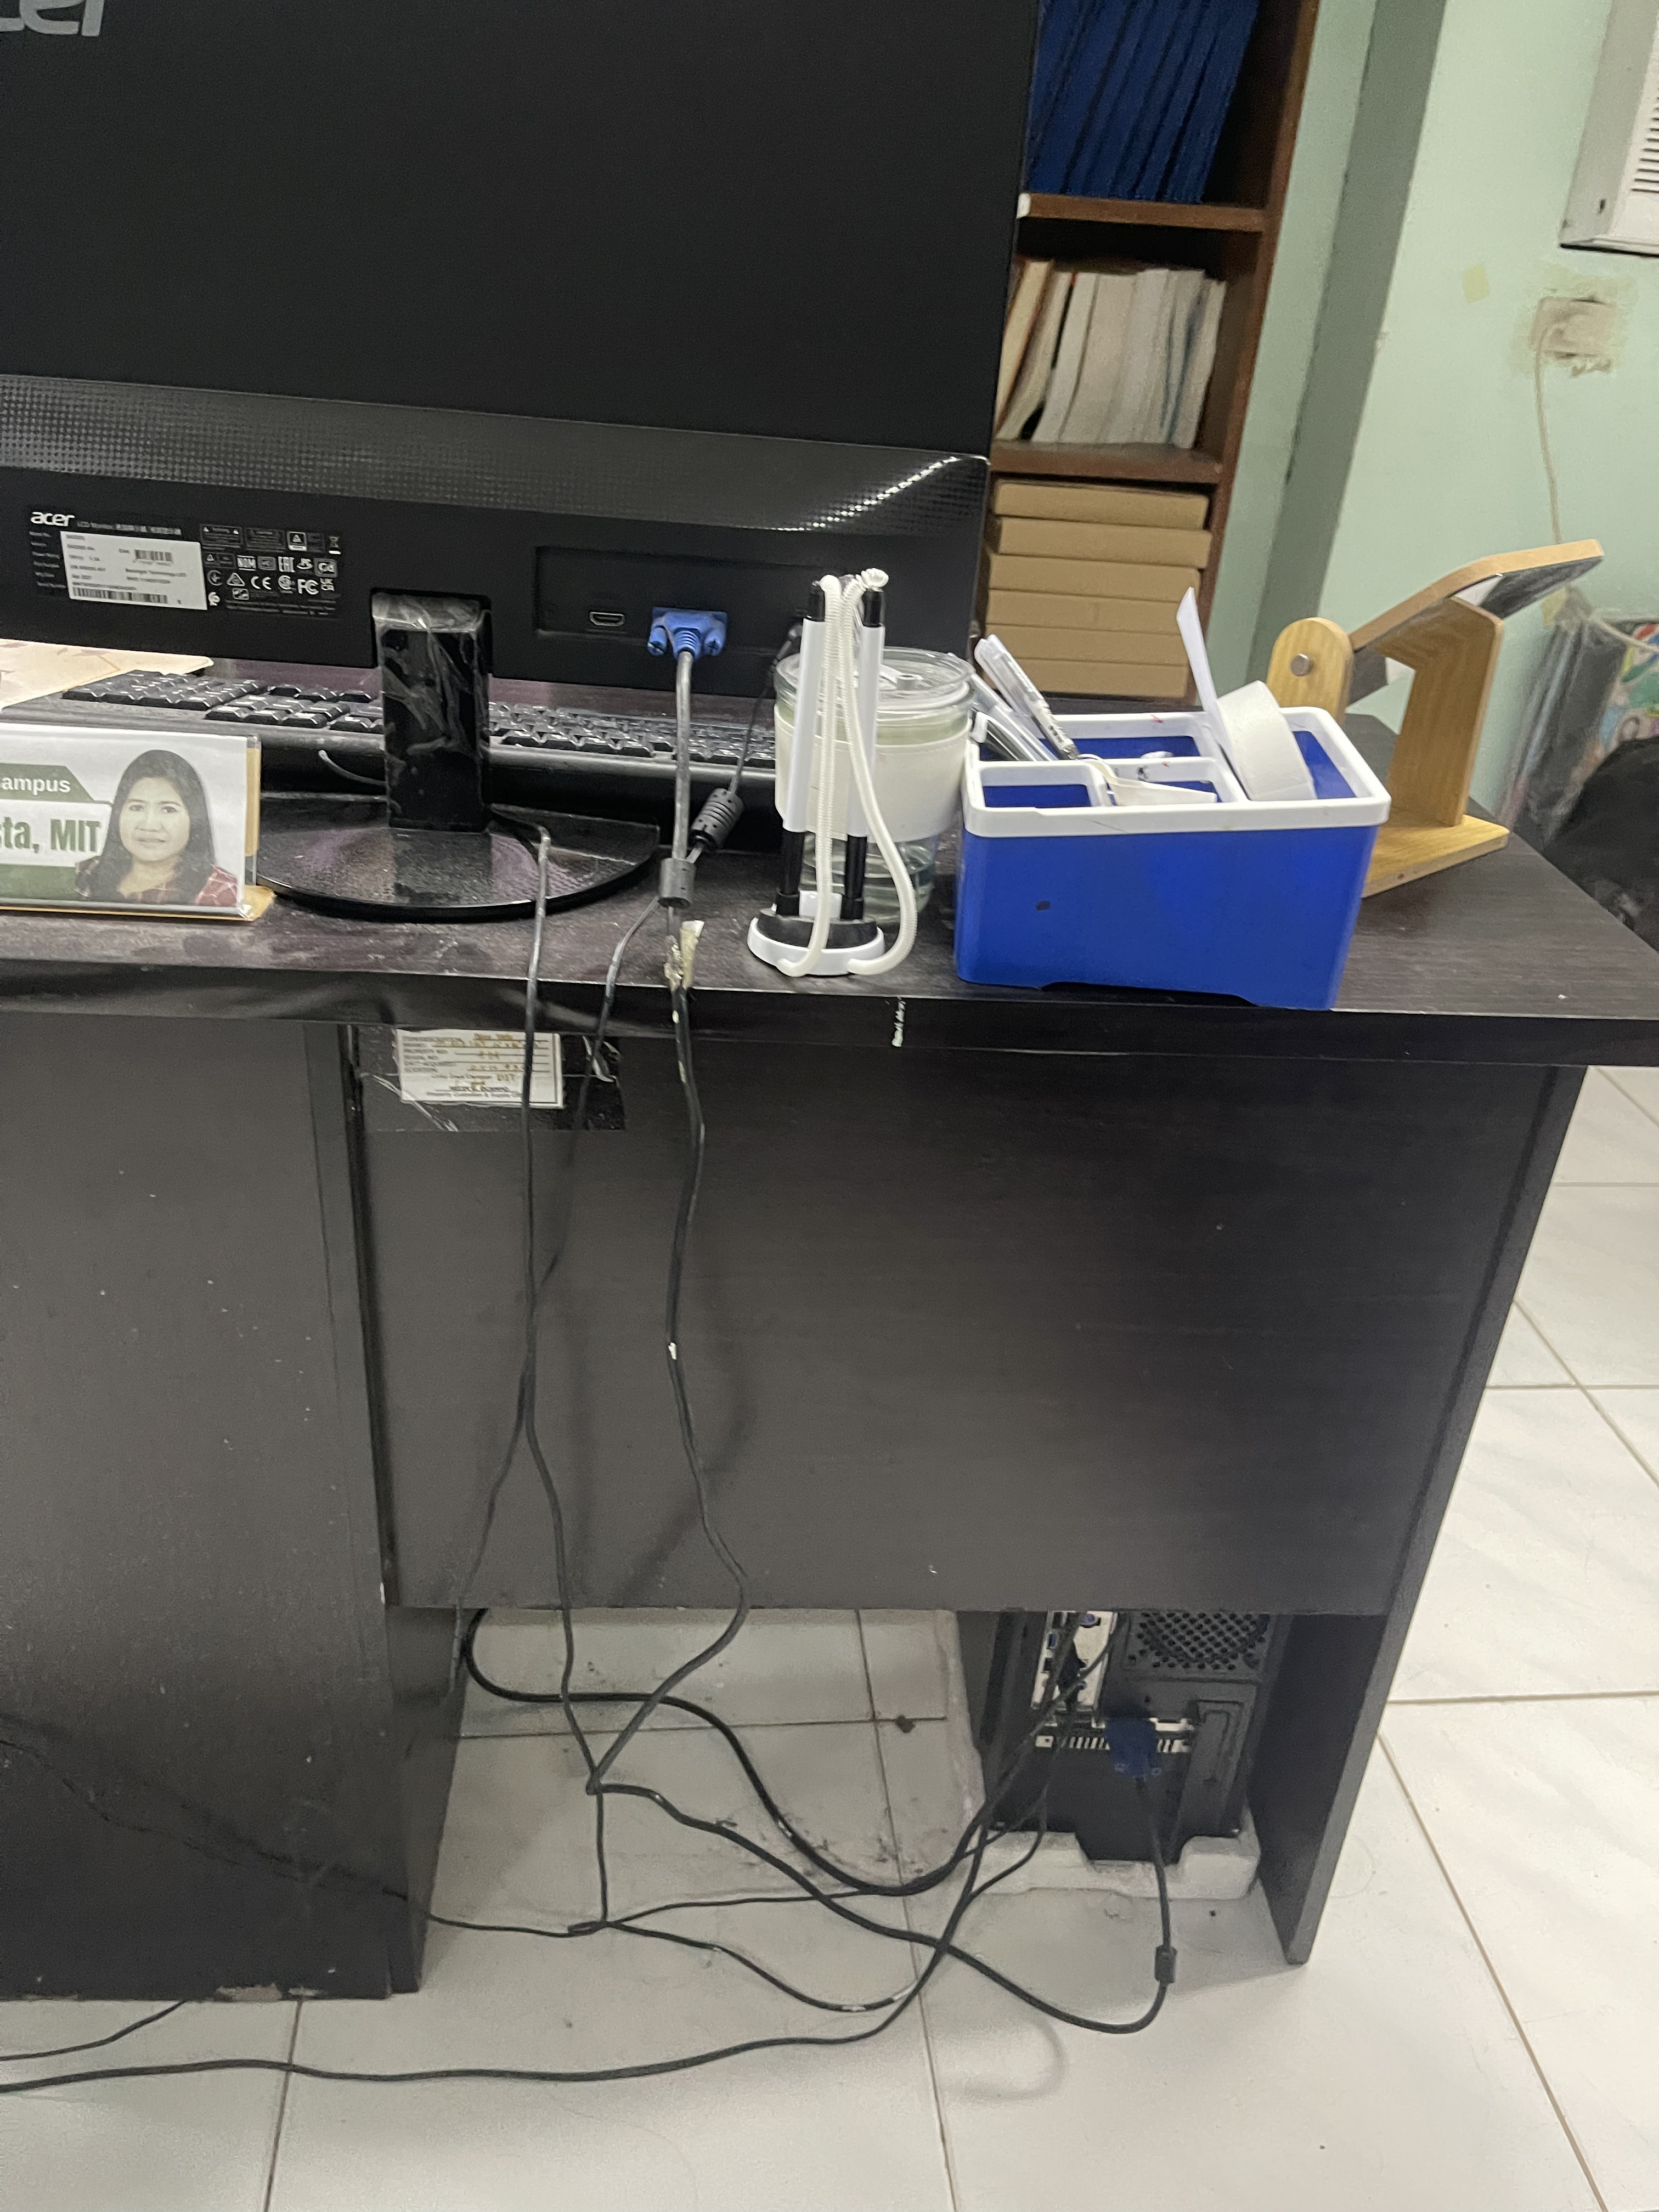table1: (10, 697, 1659, 2006)
